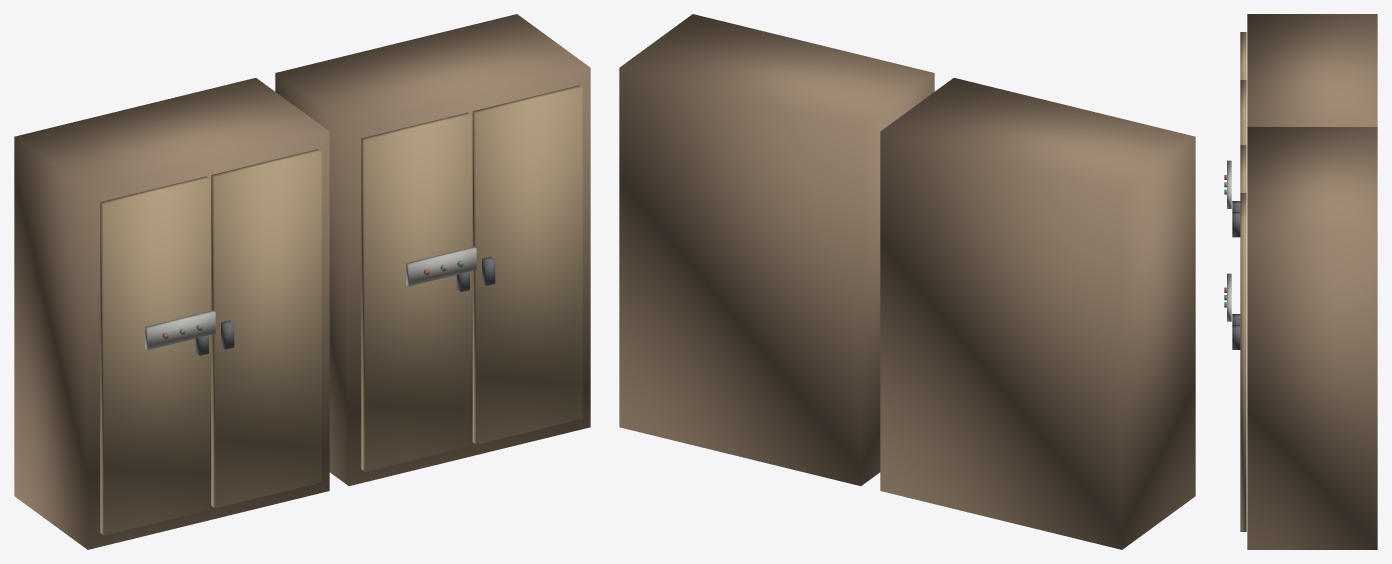
The model's file is lab_reagent_cabinet__cluster.glb.
3 renders of one model, left to right at view 1: azimuth 30°, elevation 25°; view 2: azimuth 150°, elevation 25°; view 3: azimuth 270°, elevation 25°, orthographic. The views are drawn at different scales.
Visible parts, largest first — view 1: world; view 2: world; view 3: world.
Part boxes in pixels (x1,y1,x2,y2): world: [14, 14, 590, 549]; world: [619, 14, 1195, 549]; world: [1224, 14, 1377, 549].
Bounding box in the file's own units: 1.98 × 1.35 × 0.5885.
